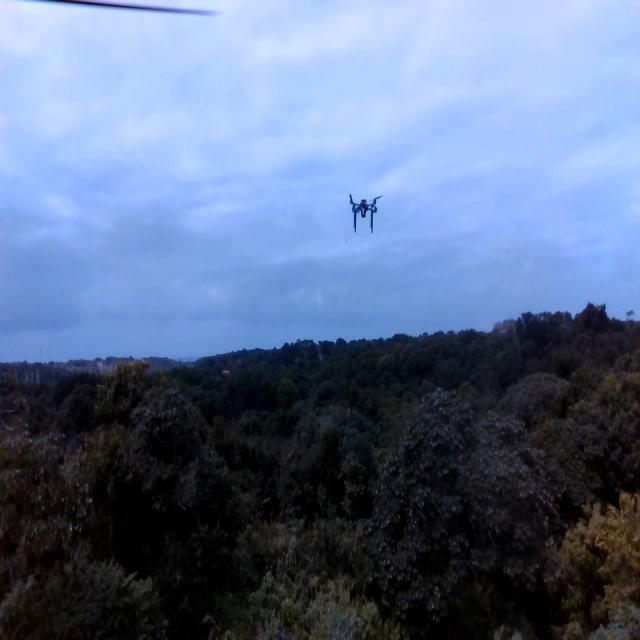-uav-: (342, 182, 396, 256)
